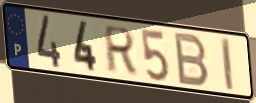4: (36, 13, 63, 70), (72, 20, 99, 74)
5: (139, 26, 172, 84)
B: (173, 30, 211, 88)
I: (219, 35, 236, 93)
R: (104, 24, 138, 76)
